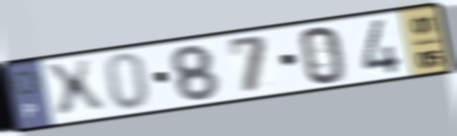0: (102, 50, 155, 113), (297, 24, 347, 87)
4: (360, 15, 403, 78)
7: (226, 32, 275, 97)
8: (169, 43, 225, 104)
X: (41, 56, 111, 122)
